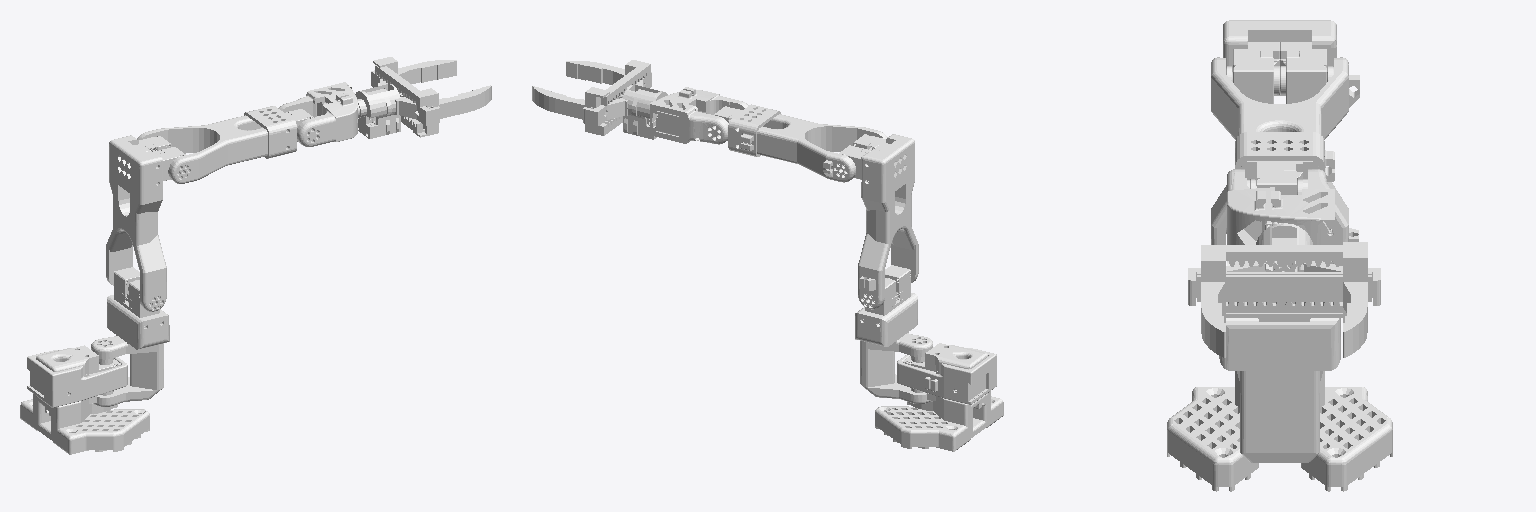
robot.urdf — UniArmL1:
<?xml version="1.0" encoding="utf-8"?>
<!-- This URDF was automatically created by SolidWorks to URDF Exporter! Originally created by Stephen Brawner (brawner@gmail.com) 
     Commit Version: 1.6.0-4-g7f85cfe  Build Version: 1.6.7995.38578
     For more information, please see http://wiki.ros.org/sw_urdf_exporter -->
<robot
  name="UniArmL1">
  <link
    name="base_link">
    <inertial>
      <origin
        xyz="-0.02868 -3.8976E-05 -0.031888"
        rpy="0 0 0" />
      <mass
        value="0.14867" />
      <inertia
        ixx="0.00015529"
        ixy="-5.1715E-07"
        ixz="2.178E-05"
        iyy="0.0001423"
        iyz="-4.2276E-09"
        izz="0.00017268" />
    </inertial>
    <visual>
      <origin
        xyz="0 0 0"
        rpy="0 0 0" />
      <geometry>
        <mesh
          filename="../meshes/base_link.STL" />
      </geometry>
      <material
        name="">
        <color
          rgba="0.96471 0.96471 0.96471 1" />
      </material>
    </visual>
    <collision>
      <origin
        xyz="0 0 0"
        rpy="0 0 0" />
      <geometry>
        <mesh
          filename="../meshes/base_link.STL" />
      </geometry>
    </collision>
  </link>
  <link
    name="Link_1">
    <inertial>
      <origin
        xyz="0.031034 1.004E-08 0.011119"
        rpy="0 0 0" />
      <mass
        value="0.15781" />
      <inertia
        ixx="7.2939E-05"
        ixy="9.2363E-10"
        ixz="-4.8133E-06"
        iyy="7.4035E-05"
        iyz="-8.6919E-11"
        izz="3.5975E-05" />
    </inertial>
    <visual>
      <origin
        xyz="0 0 0"
        rpy="0 0 0" />
      <geometry>
        <mesh
          filename="../meshes/Link_1.STL" />
      </geometry>
      <material
        name="">
        <color
          rgba="0.96471 0.96471 0.96471 1" />
      </material>
    </visual>
    <collision>
      <origin
        xyz="0 0 0"
        rpy="0 0 0" />
      <geometry>
        <mesh
          filename="../meshes/Link_1.STL" />
      </geometry>
    </collision>
  </link>
  <joint
    name="shoulder_pan"
    type="revolute">
    <origin
      xyz="0 0 0.00014913"
      rpy="0 0 0" />
    <parent
      link="base_link" />
    <child
      link="Link_1" />
    <axis
      xyz="0 0 1" />
    <limit
      lower="-1.75"
      upper="1.75"
      effort="150"
      velocity="3.14" />
  </joint>
  <link
    name="Link_2">
    <inertial>
      <origin
        xyz="-0.0159 0.078763 -0.00010395"
        rpy="0 0 0" />
      <mass
        value="0.15798" />
      <inertia
        ixx="0.00014861"
        ixy="2.7165E-05"
        ixz="1.8907E-07"
        iyy="4.7199E-05"
        iyz="-1.0005E-06"
        izz="0.00012518" />
    </inertial>
    <visual>
      <origin
        xyz="0 0 0"
        rpy="0 0 0" />
      <geometry>
        <mesh
          filename="../meshes/Link_2.STL" />
      </geometry>
      <material
        name="">
        <color
          rgba="0.96471 0.96471 0.96471 1" />
      </material>
    </visual>
    <collision>
      <origin
        xyz="0 0 0"
        rpy="0 0 0" />
      <geometry>
        <mesh
          filename="../meshes/Link_2.STL" />
      </geometry>
    </collision>
  </link>
  <joint
    name="shoulder_lift"
    type="revolute">
    <origin
      xyz="0.0316 0 0.059433"
      rpy="1.5708 0.21375 0" />
    <parent
      link="Link_1" />
    <child
      link="Link_2" />
    <axis
      xyz="0 0 1" />
    <limit
      lower="-1.87"
      upper="1.87"
      effort="150"
      velocity="3.14" />
  </joint>
  <link
    name="Link_3">
    <inertial>
      <origin
        xyz="0.00069195 -0.072761 0.00022473"
        rpy="0 0 0" />
      <mass
        value="0.09906" />
      <inertia
        ixx="9.2122E-05"
        ixy="8.9336E-07"
        ixz="1.2917E-08"
        iyy="2.8586E-05"
        iyz="-6.1629E-07"
        izz="7.2661E-05" />
    </inertial>
    <visual>
      <origin
        xyz="0 0 0"
        rpy="0 0 0" />
      <geometry>
        <mesh
          filename="../meshes/Link_3.STL" />
      </geometry>
      <material
        name="">
        <color
          rgba="0.96471 0.96471 0.96471 1" />
      </material>
    </visual>
    <collision>
      <origin
        xyz="0 0 0"
        rpy="0 0 0" />
      <geometry>
        <mesh
          filename="../meshes/Link_3.STL" />
      </geometry>
    </collision>
  </link>
  <joint
    name="elbow_flex"
    type="revolute">
    <origin
      xyz="0.0015028 0.12124 0"
      rpy="3.1416 0 -1.3533" />
    <parent
      link="Link_2" />
    <child
      link="Link_3" />
    <axis
      xyz="0 0 -1" />
    <limit
      lower="-1.65"
      upper="1.65"
      effort="150"
      velocity="3.14" />
  </joint>
  <link
    name="Link_4">
    <inertial>
      <origin
        xyz="-0.00022101 0.029092 -0.00029356"
        rpy="0 0 0" />
      <mass
        value="0.08193" />
      <inertia
        ixx="2.4713E-05"
        ixy="1.3196E-07"
        ixz="-4.4441E-09"
        iyy="1.5764E-05"
        iyz="1.2152E-06"
        izz="1.5263E-05" />
    </inertial>
    <visual>
      <origin
        xyz="0 0 0"
        rpy="0 0 0" />
      <geometry>
        <mesh
          filename="../meshes/Link_4.STL" />
      </geometry>
      <material
        name="">
        <color
          rgba="0.96471 0.96471 0.96471 1" />
      </material>
    </visual>
    <collision>
      <origin
        xyz="0 0 0"
        rpy="0 0 0" />
      <geometry>
        <mesh
          filename="../meshes/Link_4.STL" />
      </geometry>
    </collision>
  </link>
  <joint
    name="wrist_flex"
    type="revolute">
    <origin
      xyz="0 -0.132841538725229 0"
      rpy="3.14159265358979 0 0.00375109452477133" />
    <parent
      link="Link_3" />
    <child
      link="Link_4" />
    <axis
      xyz="0 0 1" />
    <limit
      lower="-1.62"
      upper="1.62"
      effort="150"
      velocity="150" />
  </joint>
  <link
    name="Link_5">
    <inertial>
      <origin
        xyz="0.0028274 -2.5466E-05 0.034839"
        rpy="0 0 0" />
      <mass
        value="0.07802" />
      <inertia
        ixx="1.5726E-05"
        ixy="1.7811E-09"
        ixz="4.1892E-07"
        iyy="6.1816E-06"
        iyz="-4.1148E-10"
        izz="1.3909E-05" />
    </inertial>
    <visual>
      <origin
        xyz="0 0 0"
        rpy="0 0 0" />
      <geometry>
        <mesh
          filename="../meshes/Link_5.STL" />
      </geometry>
      <material
        name="">
        <color
          rgba="0.96471 0.96471 0.96471 1" />
      </material>
    </visual>
    <collision>
      <origin
        xyz="0 0 0"
        rpy="0 0 0" />
      <geometry>
        <mesh
          filename="../meshes/Link_5.STL" />
      </geometry>
    </collision>
  </link>
  <joint
    name="wrist_roll"
    type="revolute">
    <origin
      xyz="0 0.055776 -0.0022"
      rpy="-1.5708 0 0" />
    <parent
      link="Link_4" />
    <child
      link="Link_5" />
    <axis
      xyz="0 0 -1" />
    <limit
      lower="-2.885"
      upper="2.885"
      effort="150"
      velocity="3.14" />
  </joint>
  <link
    name="gripper_r">
    <inertial>
      <origin
        xyz="0.0095066 -0.26671 -0.027189"
        rpy="0 0 0" />
      <mass
        value="0.0102" />
      <inertia
        ixx="8.4847E-06"
        ixy="2.9605E-06"
        ixz="2.7932E-06"
        iyy="1.0161E-05"
        iyz="-1.0116E-06"
        izz="8.6215E-06" />
    </inertial>
    <visual>
      <origin
        xyz="0 0 0"
        rpy="0 0 0" />
      <geometry>
        <mesh
          filename="../meshes/gripper_r.STL" />
      </geometry>
      <material
        name="">
        <color
          rgba="0.96471 0.96471 0.96471 1" />
      </material>
    </visual>
    <collision>
      <origin
        xyz="0 0 0"
        rpy="0 0 0" />
      <geometry>
        <mesh
          filename="../meshes/gripper_r.STL" />
      </geometry>
    </collision>
  </link>
  <joint
    name="gripper_r"
    type="prismatic">
    <origin
      xyz="0.17018 0 -0.13438"
      rpy="-1.5708 -0.74203 0" />
    <parent
      link="Link_5" />
    <child
      link="gripper_r" />
    <axis
      xyz="0 0 1" />
    <limit
      lower="0"
      upper="0.0285"
      effort="0"
      velocity="0" />
  </joint>
  <link
    name="gripper_l">
    <inertial>
      <origin
        xyz="0.014 -0.26259 0.02719"
        rpy="0 0 0" />
      <mass
        value="0.0102" />
      <inertia
        ixx="1.0659E-05"
        ixy="2.7715E-06"
        ixz="-7.6579E-07"
        iyy="7.9863E-06"
        iyz="2.8703E-06"
        izz="8.6215E-06" />
    </inertial>
    <visual>
      <origin
        xyz="0 0 0"
        rpy="0 0 0" />
      <geometry>
        <mesh
          filename="../meshes/gripper_l.STL" />
      </geometry>
      <material
        name="">
        <color
          rgba="0.96471 0.96471 0.96471 1" />
      </material>
    </visual>
    <collision>
      <origin
        xyz="0 0 0"
        rpy="0 0 0" />
      <geometry>
        <mesh
          filename="../meshes/gripper_l.STL" />
      </geometry>
    </collision>
  </link>
  <joint
    name="gripper_l"
    type="prismatic">
    <origin
      xyz="0.17018 0 -0.13438"
      rpy="-1.5708 -0.74203 0" />
    <parent
      link="Link_5" />
    <child
      link="gripper_l" />
    <axis
      xyz="0 0 -1" />
    <limit
      lower="0"
      upper="0.0285"
      effort="0"
      velocity="0" />
  </joint>
  <link
    name="gripperframe">
    <inertial>
      <origin
        xyz="0.069061 0.0018966 -0.040643"
        rpy="0 0 0" />
      <mass
        value="1E-05" />
      <inertia
        ixx="0.0069136"
        ixy="1.6851E-05"
        ixz="-0.0043602"
        iyy="0.011678"
        iyz="3.5649E-05"
        izz="0.0052301" />
    </inertial>
    <!-- visual/collision 已删除，只保留空的 frame -->
  </link>
  <joint
    name="gripperframe_joint"
    type="fixed">
    <origin
      xyz="0.17018 0 -0.13438"
      rpy="0 0 3.1416" />
    <parent
      link="Link_5" />
    <child
      link="gripperframe" />
    <axis
      xyz="0 0 0" />
    <limit
      lower="0"
      upper="0"
      effort="0"
      velocity="0" />
  </joint>
</robot>

--- What the picture shows (computed from the rendered views, not written in the file) ---
3 views of the same robot in one strip: view 1: azimuth 30°, elevation 25°; view 2: azimuth 150°, elevation 25°; view 3: azimuth 270°, elevation 25° (orthographic).
Model UniArmL1 with 9 links and 8 joints (5 revolute, 2 prismatic, 1 fixed), rooted at base_link, posed every joint at zero.
Visible links, largest first — view 1: base_link, Link_2, Link_3, Link_1, Link_4, Link_5, gripper_r, gripper_l; view 2: base_link, Link_2, Link_3, Link_1, Link_4, Link_5, gripper_r, gripper_l; view 3: Link_1, base_link, Link_3, Link_2, Link_5, Link_4, gripper_r, gripper_l.
Link boxes in pixels (box(x1,y1,x2,y2)): base_link: box(20, 345, 149, 454); Link_2: box(106, 135, 185, 311); Link_3: box(137, 106, 313, 183); Link_1: box(91, 267, 169, 406); Link_4: box(278, 82, 359, 146); Link_5: box(355, 70, 439, 138); gripper_r: box(375, 65, 491, 137); gripper_l: box(373, 57, 456, 133); base_link: box(875, 343, 1003, 451); Link_2: box(839, 134, 918, 309); Link_3: box(714, 104, 887, 182); Link_1: box(855, 265, 932, 403); Link_4: box(649, 87, 748, 144); Link_5: box(583, 72, 667, 139); gripper_r: box(566, 60, 650, 105); gripper_l: box(532, 86, 622, 135); Link_1: box(1219, 261, 1340, 462); base_link: box(1167, 371, 1392, 491); Link_3: box(1211, 57, 1359, 194); Link_2: box(1211, 20, 1358, 265); Link_5: box(1188, 223, 1380, 321); Link_4: box(1227, 169, 1334, 263); gripper_r: box(1201, 245, 1342, 357); gripper_l: box(1226, 242, 1367, 357).
Size in the robot's own frame: 0.4334 by 0.1109 by 0.2588 metres.
8 mesh visuals loaded from 8 distinct referenced files (8 binary STL).
